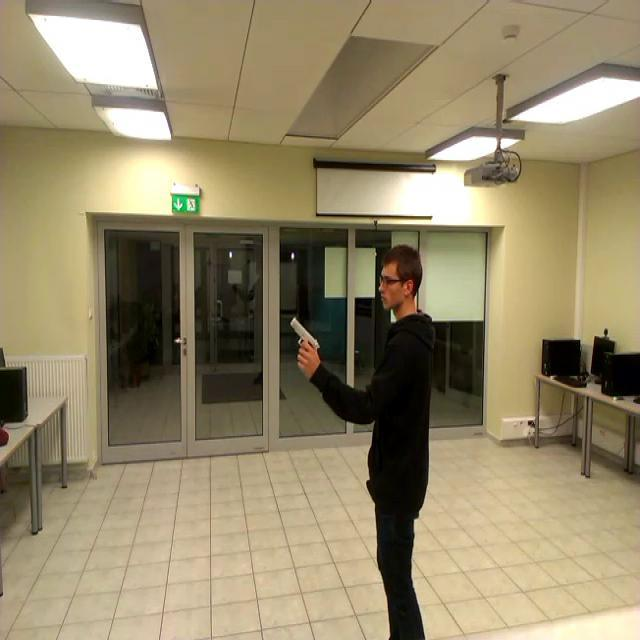Gun: (291, 316, 321, 364)
